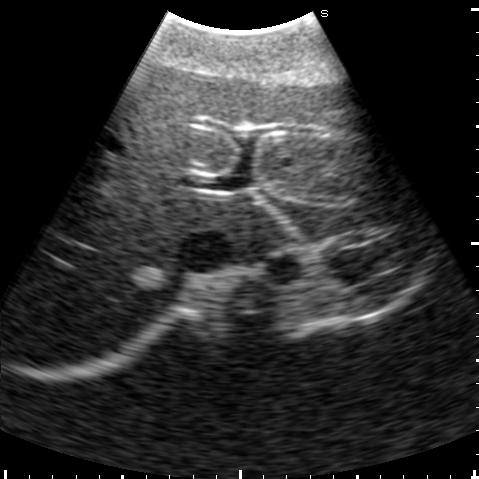IVC: (176, 229, 234, 273)
S1: (226, 197, 283, 258)
S2: (258, 178, 421, 240)
S3: (240, 77, 406, 201)
